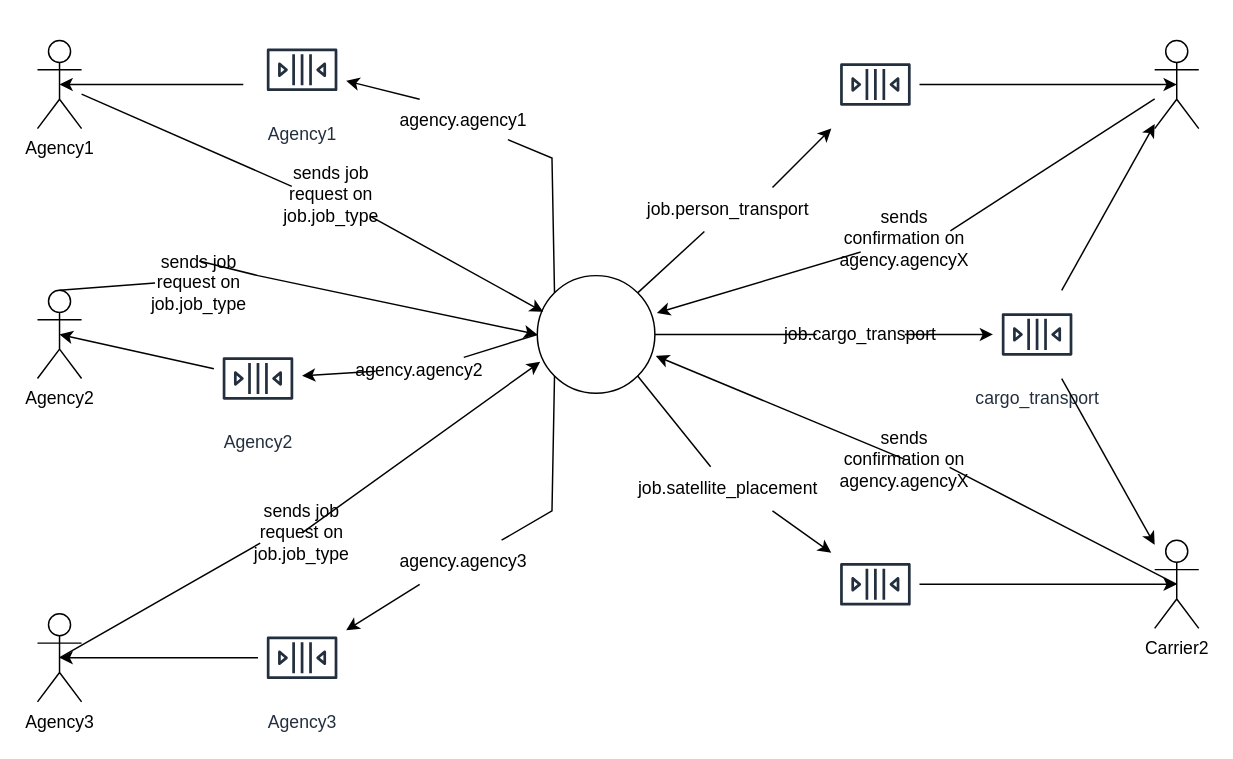
Some shapes in this 1233 by 759 pixel diagram are drawn without their labels. Here are the shapes that lost their labels. From the top down, the box of each, then its label:
(830, 39, 919, 129): person_transport
(1153, 39, 1199, 129): Carrier1
(536, 274, 655, 393): EXCHANGE TOPIC
(830, 539, 919, 628): satellite_placement
